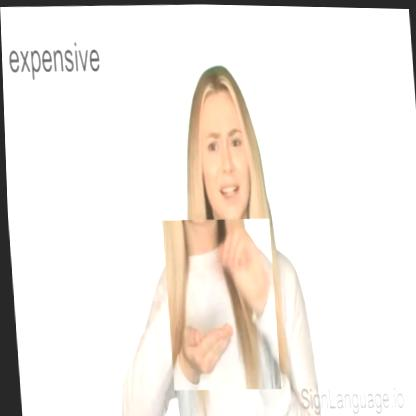Expensive: (160, 216, 278, 391)
